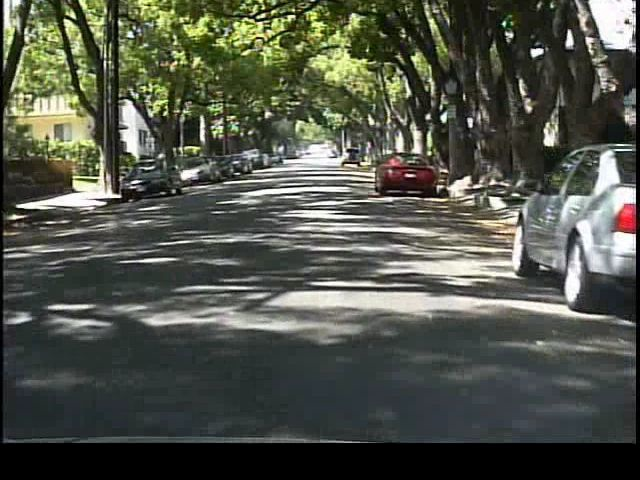person: (155, 148, 175, 186)
